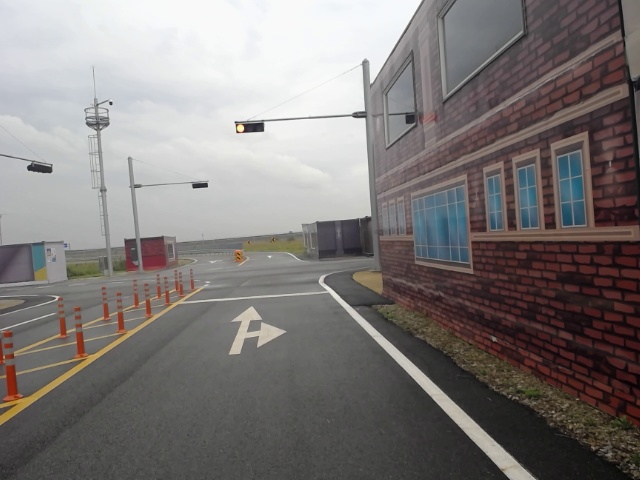red_3: (236, 120, 264, 134)
